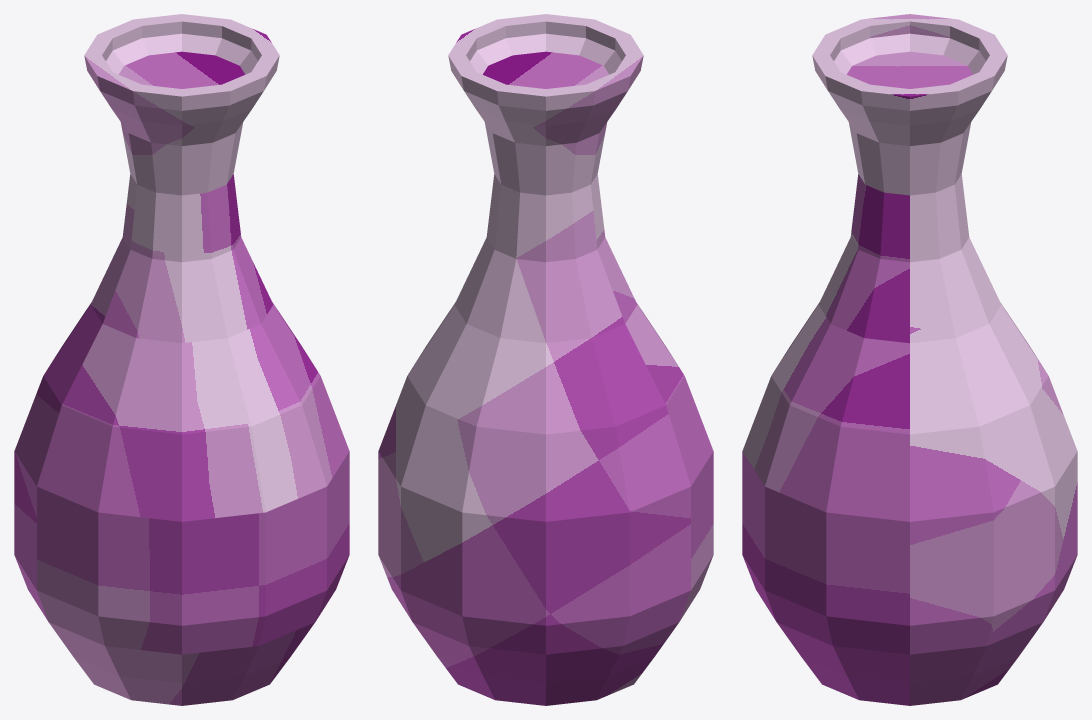
Rendered from bottle_616x02.gltf.
3 views of the same model, side by side, from view 1: azimuth 30°, elevation 25°; view 2: azimuth 150°, elevation 25°; view 3: azimuth 270°, elevation 25° (orthographic).
Parts seen in each view (by area): view 1: bottle_616x02; view 2: bottle_616x02; view 3: bottle_616x02.
Part boxes in pixels (x1,y1,x2,y2): bottle_616x02: (14, 14, 349, 705); bottle_616x02: (378, 14, 713, 705); bottle_616x02: (742, 14, 1077, 705).
Bounding box in the file's own units: 0.6 × 1.2 × 0.6.
Materials: 1 (1 with a texture image).
